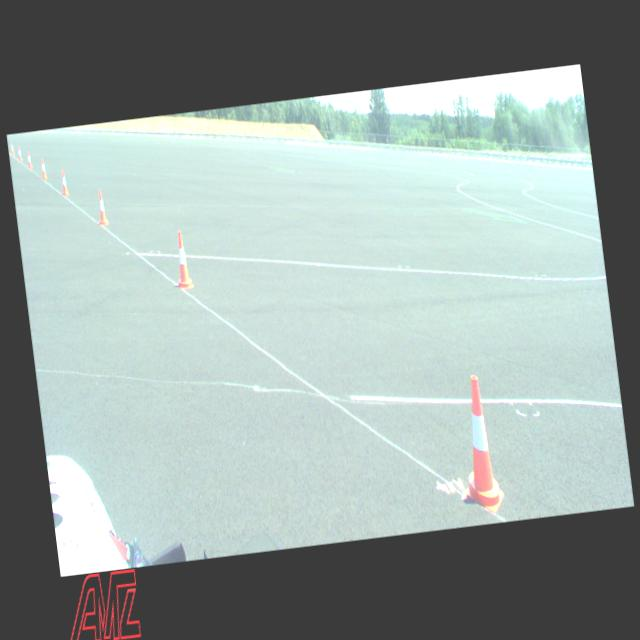orange_cone: (452, 373, 506, 516), (170, 230, 193, 289), (95, 189, 108, 225), (59, 169, 69, 195), (39, 157, 47, 179), (26, 151, 32, 168), (17, 146, 22, 161), (10, 142, 14, 155)
